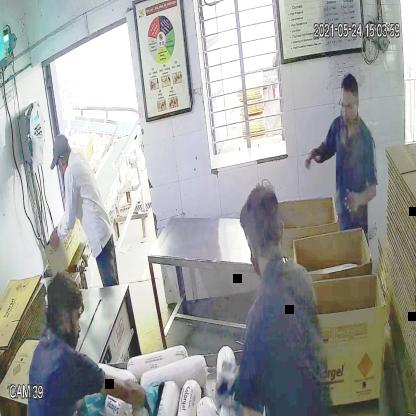goggles: (336, 98, 358, 115)
